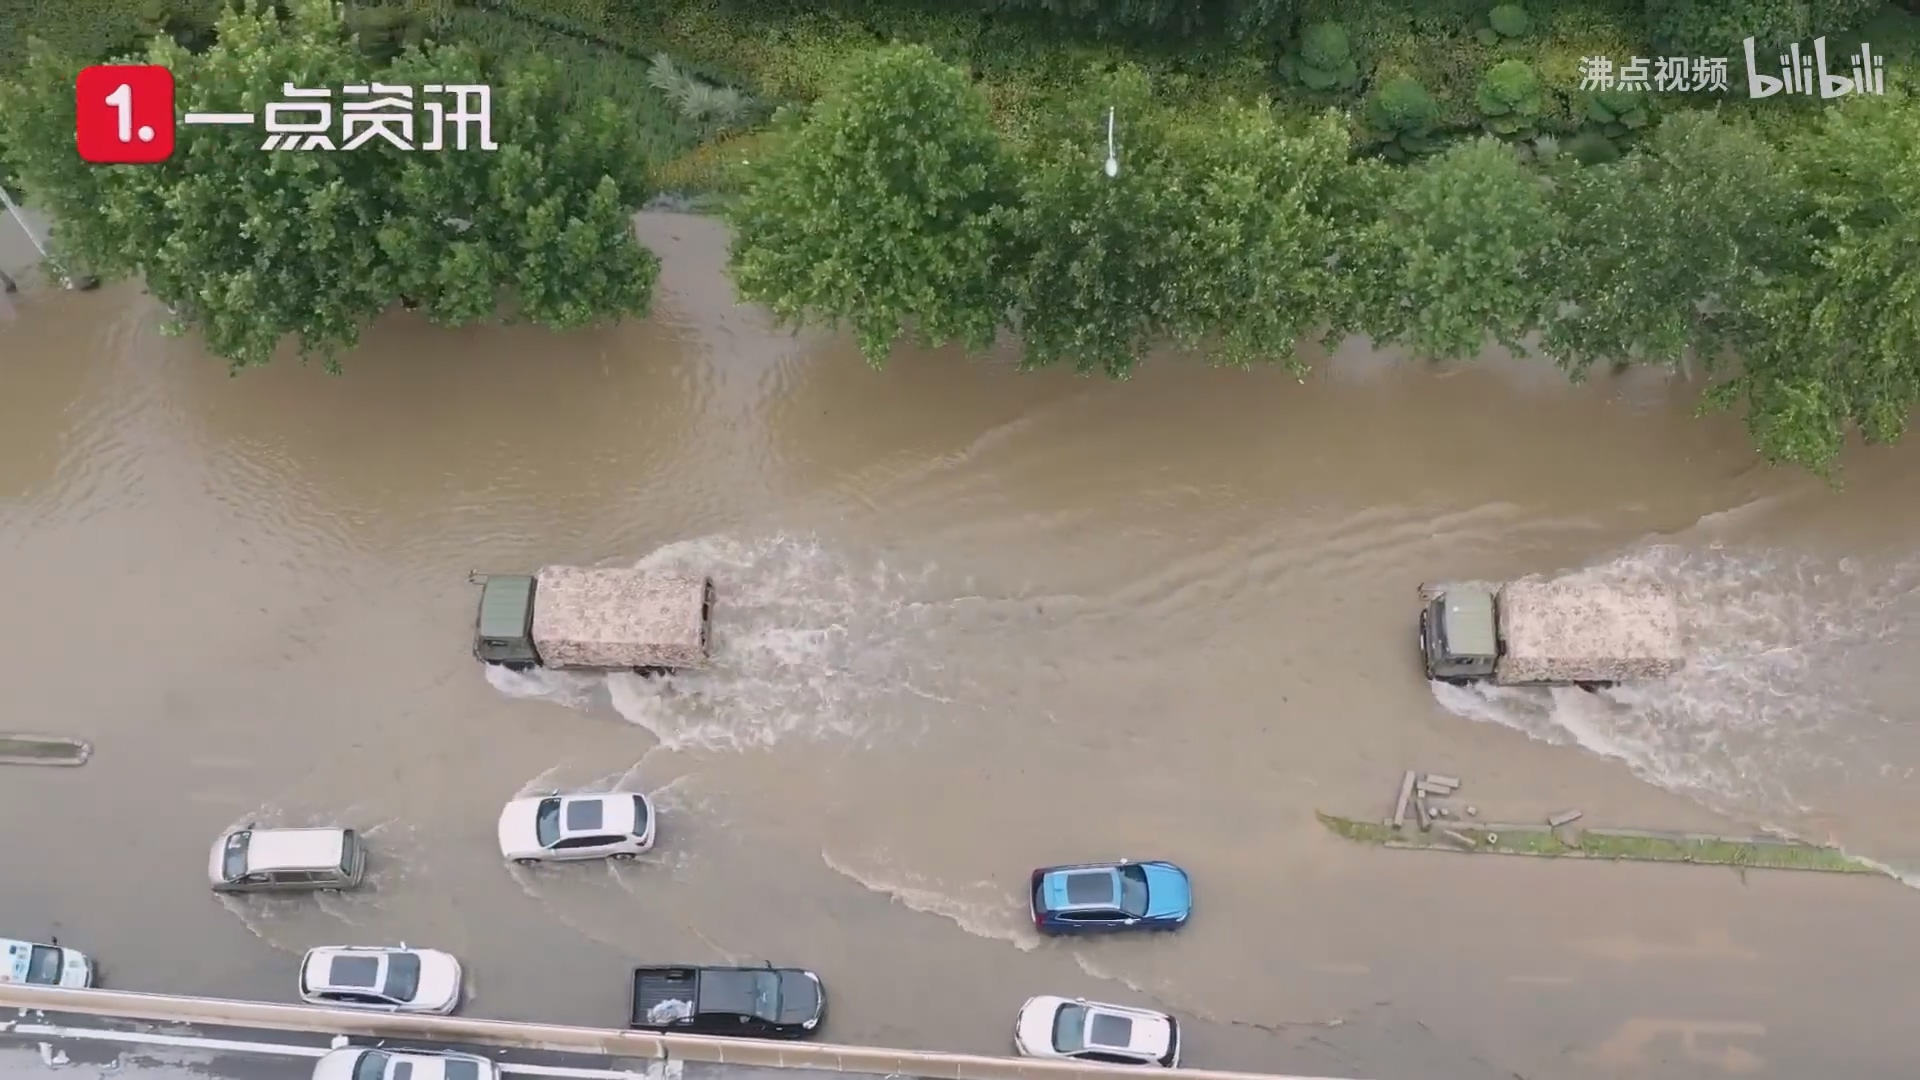puddle: (12, 315, 1913, 1071)
